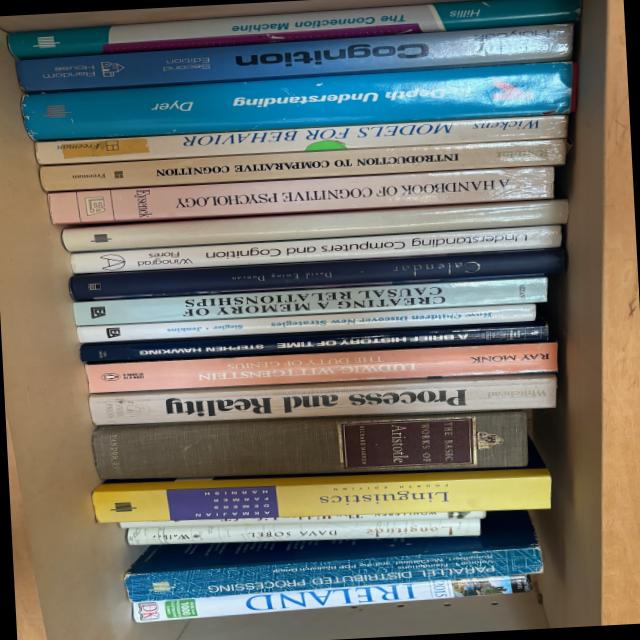book: (21, 61, 576, 143), (121, 508, 543, 605), (15, 23, 574, 95), (9, 0, 579, 61), (90, 409, 529, 482), (48, 166, 555, 225), (61, 197, 568, 254), (39, 138, 567, 192), (33, 114, 568, 166), (68, 247, 566, 302), (91, 467, 550, 524), (88, 372, 557, 427), (84, 341, 557, 394), (69, 225, 562, 274), (72, 277, 546, 327), (131, 571, 532, 624), (79, 321, 548, 363), (76, 303, 536, 344), (126, 517, 480, 546), (118, 510, 486, 529)
